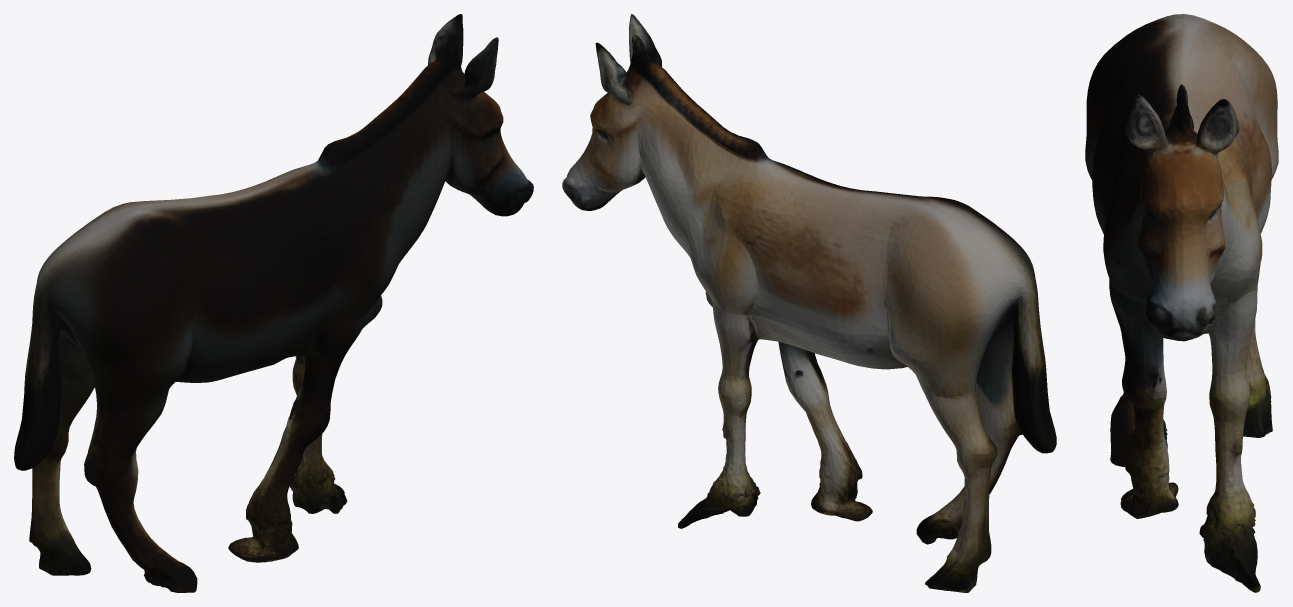
Rendered from 404ded46-9d0b-41f5-a77f-afce182c7f68.glb.
The picture shows the model from 3 angles, left to right: view 1: azimuth 30°, elevation 25°; view 2: azimuth 150°, elevation 25°; view 3: azimuth 270°, elevation 25°; orthographic projection. The views are drawn at different scales.
Parts seen in each view (by area): view 1: world; view 2: world; view 3: world.
Boxes of the visible parts, x1=… form: world: x1=14, y1=14, x2=533, y2=592; world: x1=562, y1=14, x2=1056, y2=592; world: x1=1085, y1=14, x2=1278, y2=592.
Bounding box in the file's own units: 0.9985 × 0.898 × 0.2834.
Materials: 1 (1 with a texture image).
